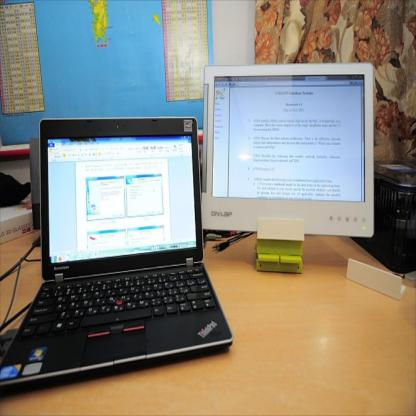board: (16, 105, 227, 389)
